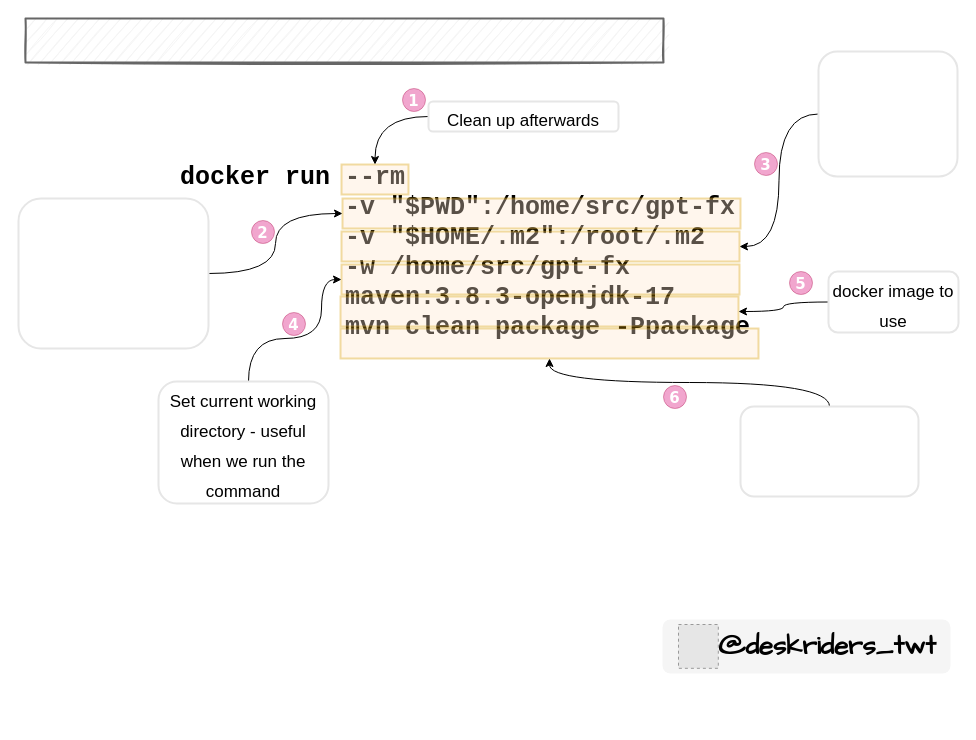
Image size: 976x740. Some labels were removed from this diagram. Grey dashed boxes stand in for pictures. The shapes that lost their labels are listed below. From the top down, each one's centre as x and y in pixels, then its label:
the point at 344,40: Use docker to build local maven project
the point at 887,113: Mount local maven cache to reuse dependencies
the point at 113,273: Mount current directory as /home/src/gpt-fx inside the docker container
the point at 829,451: Finally, maven command that we need to run
